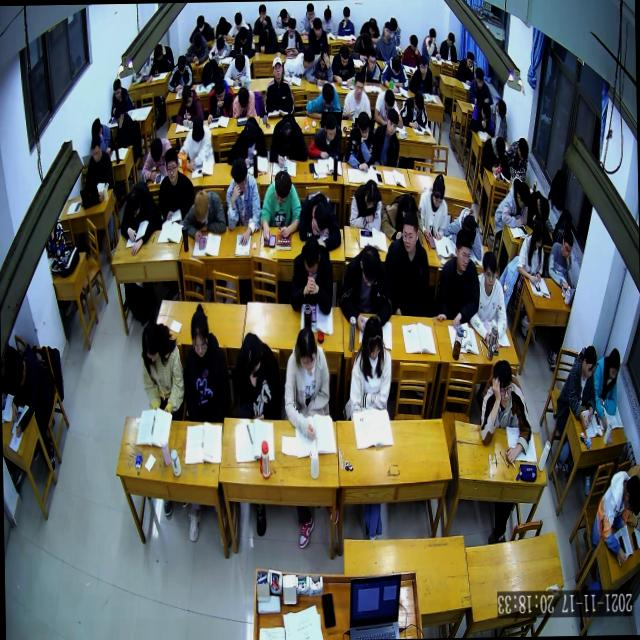bow: (119, 178, 158, 256), (297, 190, 341, 250), (182, 187, 226, 240), (380, 192, 420, 243), (268, 113, 308, 164), (140, 136, 172, 181), (480, 134, 506, 172), (525, 187, 548, 228), (223, 53, 250, 86), (232, 85, 256, 116), (200, 56, 223, 85), (208, 32, 230, 58), (358, 15, 379, 40), (214, 14, 232, 39)
down: (188, 309, 210, 359), (294, 326, 318, 371), (239, 329, 262, 374), (142, 321, 164, 365), (358, 246, 381, 288), (362, 318, 384, 360), (184, 28, 208, 64), (623, 472, 640, 516), (302, 238, 320, 278), (230, 154, 248, 192), (430, 174, 446, 208), (274, 170, 290, 204), (193, 190, 210, 222), (582, 344, 597, 379), (514, 178, 530, 208), (606, 348, 620, 380), (124, 188, 140, 216), (363, 180, 377, 210), (357, 108, 370, 139), (190, 114, 204, 142), (280, 119, 294, 146), (324, 112, 337, 140), (242, 120, 256, 145), (149, 137, 163, 162), (322, 80, 334, 108), (516, 137, 529, 162), (536, 196, 549, 220), (180, 82, 192, 106), (494, 134, 506, 156), (382, 88, 394, 110), (213, 78, 226, 98), (359, 32, 372, 51), (412, 90, 424, 110), (236, 86, 248, 106), (176, 52, 186, 76), (152, 44, 164, 63), (114, 104, 125, 124), (481, 101, 491, 122), (496, 97, 506, 117), (391, 56, 401, 76), (339, 44, 349, 64), (192, 28, 202, 48), (476, 66, 484, 90), (91, 118, 101, 137), (319, 50, 329, 68), (368, 18, 378, 36), (312, 18, 322, 36), (214, 36, 224, 54), (112, 78, 121, 98), (288, 16, 296, 36), (258, 29, 268, 45), (238, 28, 248, 44), (235, 54, 245, 70), (197, 13, 206, 30), (410, 33, 418, 52), (466, 48, 474, 66), (446, 30, 454, 48), (342, 4, 350, 22), (389, 16, 397, 33), (234, 12, 242, 29), (428, 26, 436, 42), (324, 5, 331, 19)
lookup: (492, 360, 512, 410), (453, 226, 473, 272), (400, 214, 420, 255), (480, 250, 498, 290), (163, 147, 180, 184), (385, 108, 399, 136), (560, 227, 572, 256), (90, 133, 102, 162), (271, 55, 284, 81), (353, 70, 364, 97), (366, 48, 376, 70), (418, 55, 428, 76), (382, 19, 392, 39), (256, 4, 266, 21), (306, 2, 314, 21)
sit: (182, 305, 232, 423), (477, 355, 531, 464), (282, 325, 332, 435), (382, 212, 432, 321), (346, 316, 393, 424), (230, 328, 282, 418), (590, 466, 640, 559), (140, 318, 186, 419), (339, 240, 392, 326), (435, 230, 480, 326), (288, 236, 334, 314), (556, 344, 597, 428), (225, 154, 262, 247), (471, 251, 507, 342), (259, 167, 302, 242), (157, 147, 194, 231), (416, 170, 449, 240), (222, 116, 268, 166), (493, 172, 531, 230), (594, 348, 620, 428), (262, 52, 294, 117), (82, 135, 114, 200), (177, 114, 214, 170), (444, 207, 482, 259), (347, 176, 383, 230), (516, 217, 546, 281), (346, 111, 376, 172), (544, 228, 574, 288), (307, 112, 343, 162), (341, 68, 373, 120), (373, 109, 401, 168), (304, 80, 342, 120), (205, 77, 235, 122), (372, 86, 403, 128), (145, 42, 174, 83), (282, 44, 314, 81), (174, 82, 203, 121), (306, 48, 334, 88), (166, 52, 194, 92), (408, 52, 433, 96), (400, 90, 430, 126), (380, 54, 408, 91), (112, 104, 134, 150), (331, 44, 355, 86), (506, 137, 529, 180), (279, 17, 303, 55), (374, 21, 396, 62), (297, 2, 322, 38), (109, 76, 132, 114), (468, 66, 492, 102), (306, 17, 328, 54), (230, 27, 256, 58), (89, 116, 110, 152), (349, 30, 375, 59), (489, 99, 508, 138), (189, 14, 214, 43), (469, 98, 491, 130), (456, 48, 476, 83), (360, 50, 381, 83), (420, 25, 440, 58), (252, 4, 274, 34), (402, 34, 422, 66), (226, 11, 248, 39), (438, 30, 457, 62), (337, 4, 355, 34), (276, 6, 294, 34), (322, 6, 336, 34), (390, 15, 400, 44)
